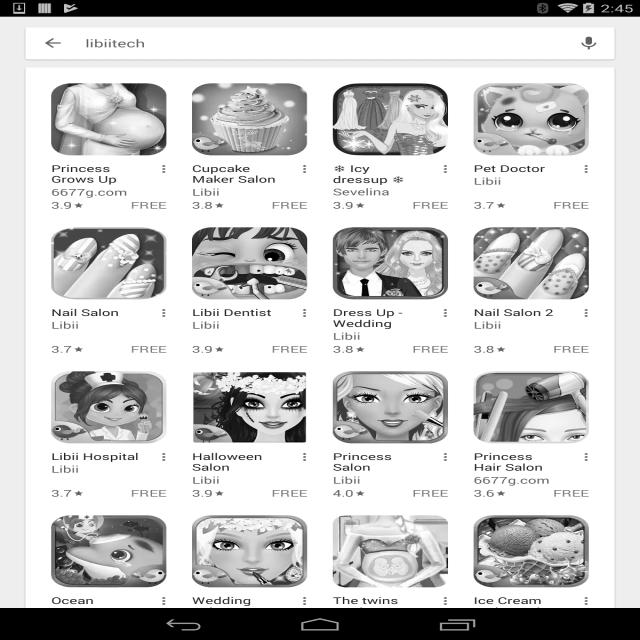EditText: (82, 31, 160, 54)
ImageButton: (34, 30, 71, 50), (573, 36, 603, 49)
ImageView: (471, 226, 592, 302), (186, 371, 310, 444), (331, 227, 446, 304), (478, 370, 593, 447), (330, 515, 451, 588), (44, 516, 166, 588), (191, 84, 309, 158), (188, 229, 309, 301), (48, 227, 166, 300), (51, 81, 167, 155), (475, 82, 591, 156), (191, 511, 304, 586), (333, 371, 449, 444), (332, 84, 451, 154), (478, 514, 590, 587), (55, 372, 164, 443)
TextView: (41, 161, 172, 208), (188, 166, 314, 213), (472, 162, 594, 210), (49, 450, 170, 498), (468, 307, 591, 354), (468, 454, 599, 497), (41, 305, 165, 350), (323, 454, 445, 498), (327, 162, 446, 207), (328, 311, 455, 353), (187, 310, 311, 353), (188, 455, 309, 495), (185, 594, 267, 609), (473, 595, 574, 607), (48, 595, 120, 609), (328, 594, 423, 603)
